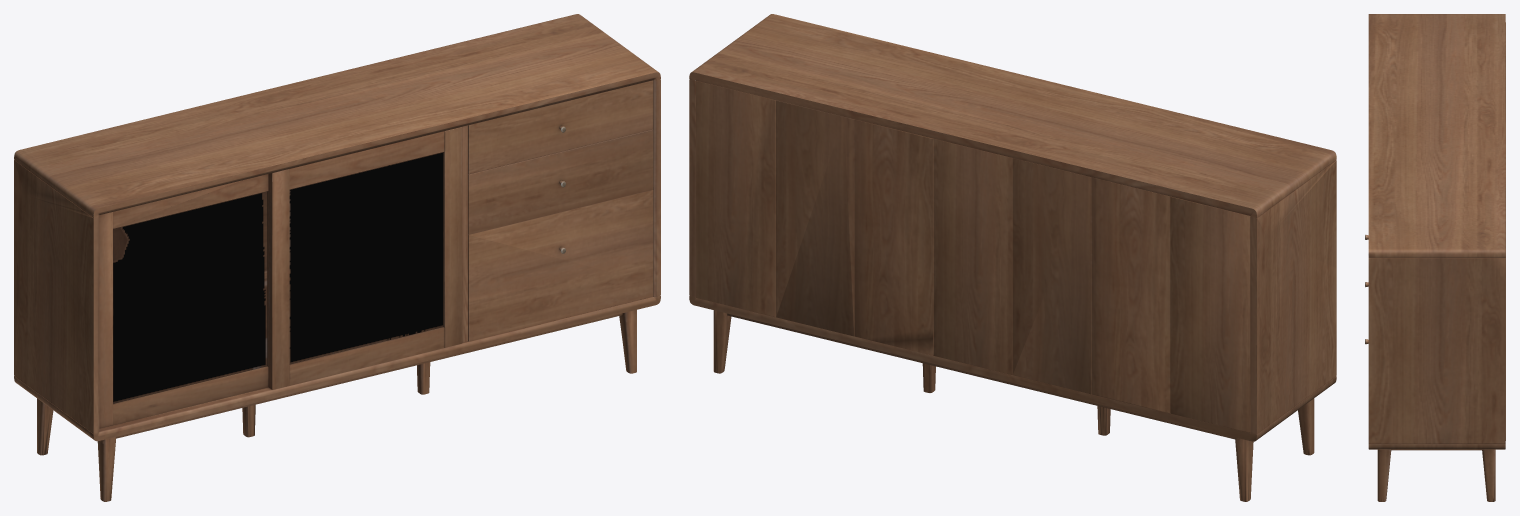
The model's file is Sideboard_Side_Cabinet_Console_a375acba-72cb-52d1-b8bd-146511ca1e5f.glb.
The picture shows the model from 3 angles, left to right: view 1: azimuth 30°, elevation 25°; view 2: azimuth 150°, elevation 25°; view 3: azimuth 270°, elevation 25°; orthographic projection. The views are drawn at different scales.
Parts seen in each view (by area): view 1: raw_model.obj; view 2: raw_model.obj; view 3: raw_model.obj.
Boxes of the visible parts, left/top/right/bottom form: raw_model.obj: left=14, top=14, right=660, bottom=501; raw_model.obj: left=689, top=14, right=1336, bottom=501; raw_model.obj: left=1365, top=14, right=1505, bottom=501.
Bounding box in the file's own units: 1.6 × 0.8106 × 0.3997.
1 material, 1 textured.
